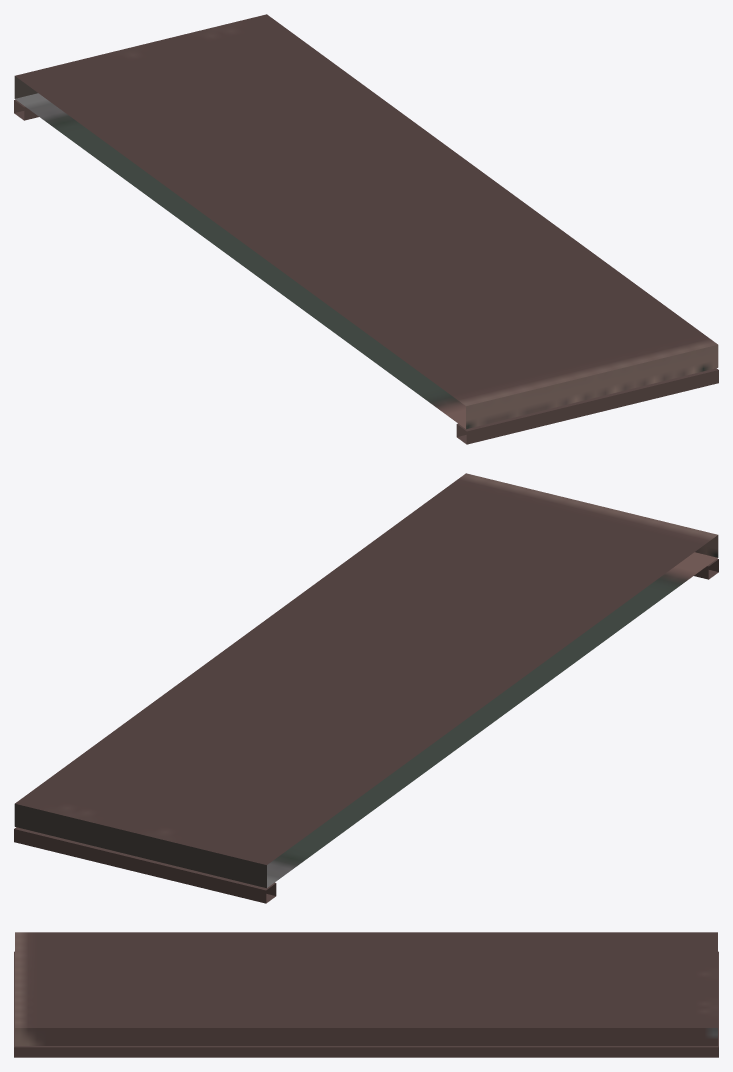
Rendered from section-14.obj.
3 views of the same model, one above another, from view 1: azimuth 30°, elevation 25°; view 2: azimuth 150°, elevation 25°; view 3: azimuth 270°, elevation 25° (orthographic). The views are drawn at different scales.
Bounding box in the file's own units: 0.4 × 0.0575 × 1.24.
1 material, 1 textured.
